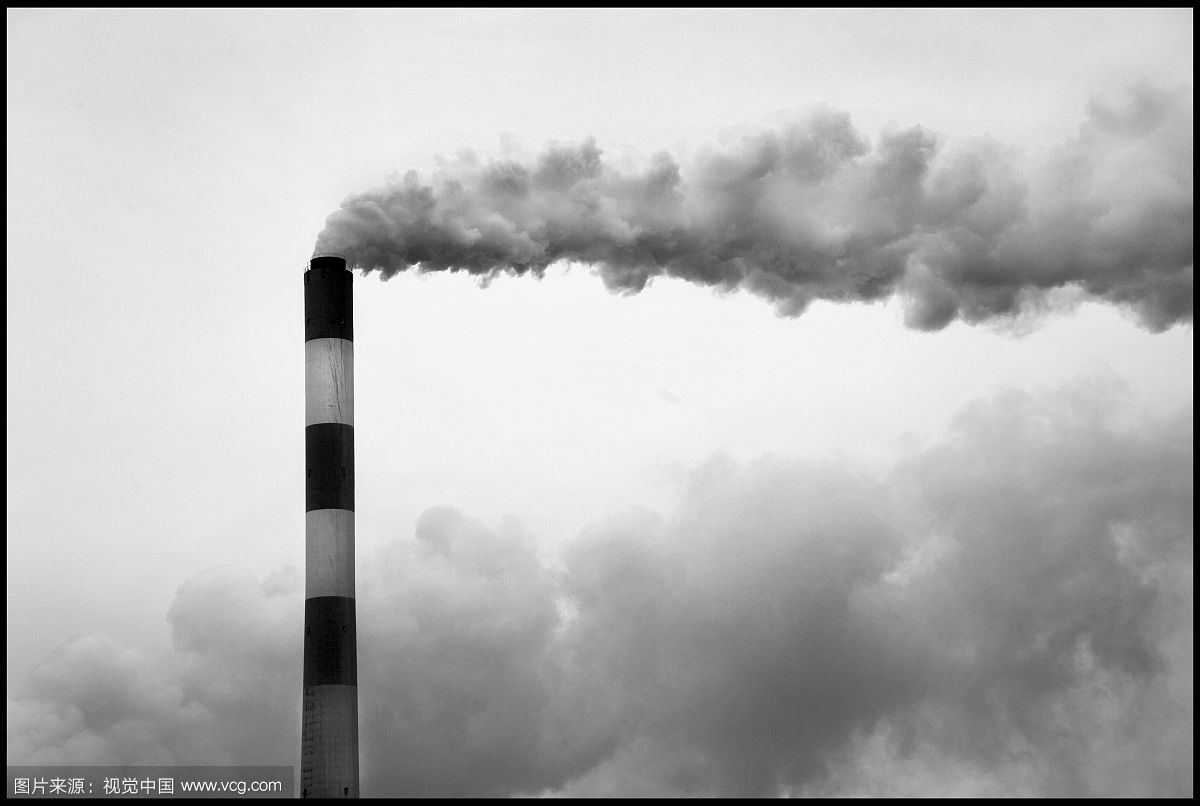dust: (303, 128, 836, 303)
